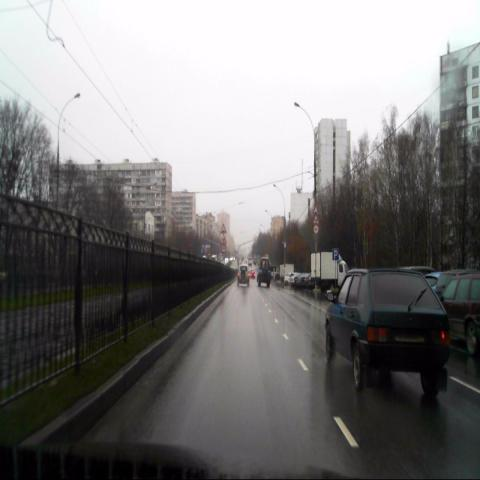1_17: (220, 223, 227, 234)
6_4: (332, 249, 339, 260)
